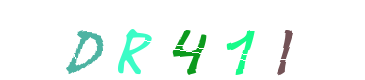1: (150, 0, 230, 80)
4: (143, 0, 223, 80)
D: (69, 0, 149, 80)
I: (245, 0, 325, 80)
R: (137, 0, 217, 80)
